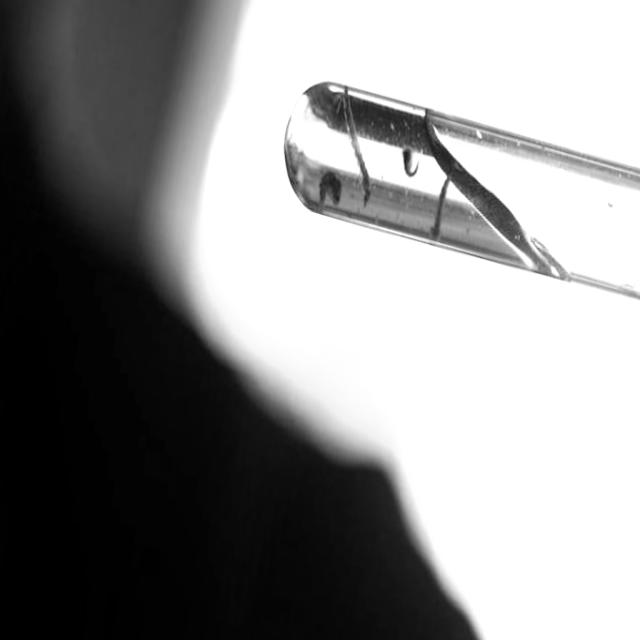larvas: (341, 89, 376, 201), (433, 171, 451, 238), (316, 170, 340, 209), (403, 147, 421, 178)
